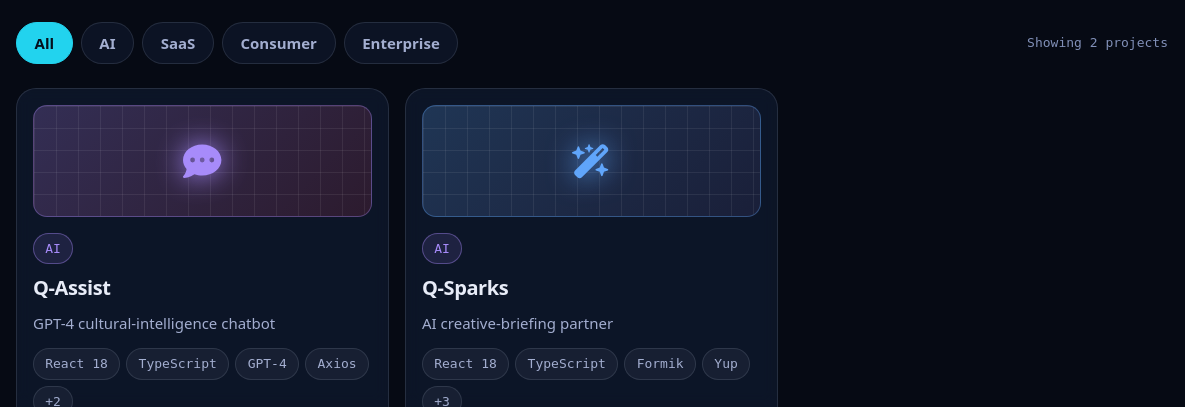
Scenario: Projects › shows an empty state when a filter matches nothing
Click the button "Enterprise".
click(401, 43)  # box x1=344 y1=22 x2=458 y2=64
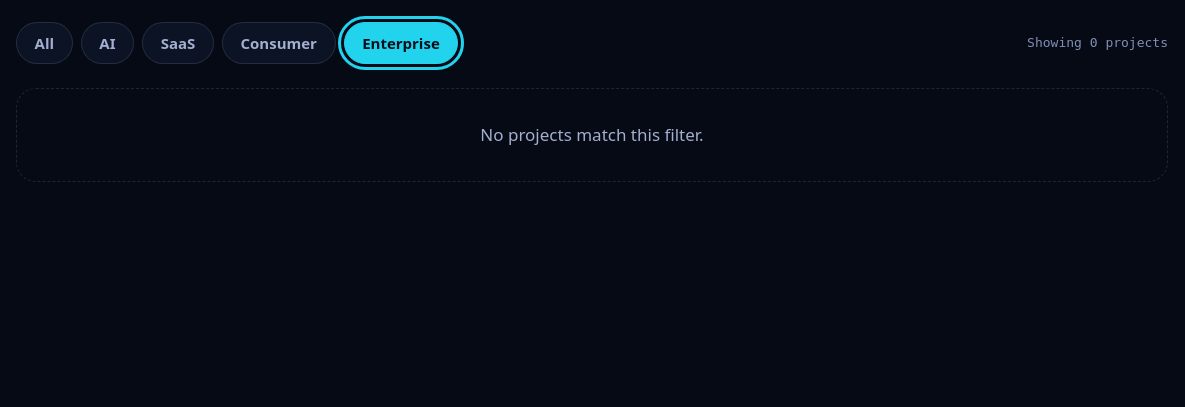
expect the text "No projects match this filter." is shown: met, box x1=16 y1=88 x2=1168 y2=182
